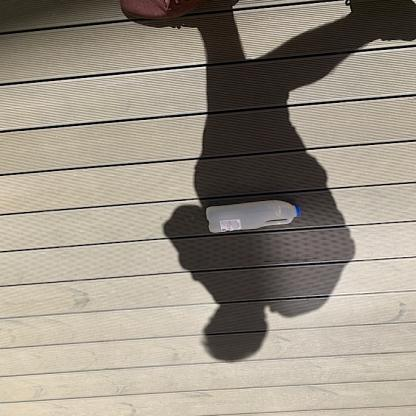trash: (204, 198, 304, 237)
